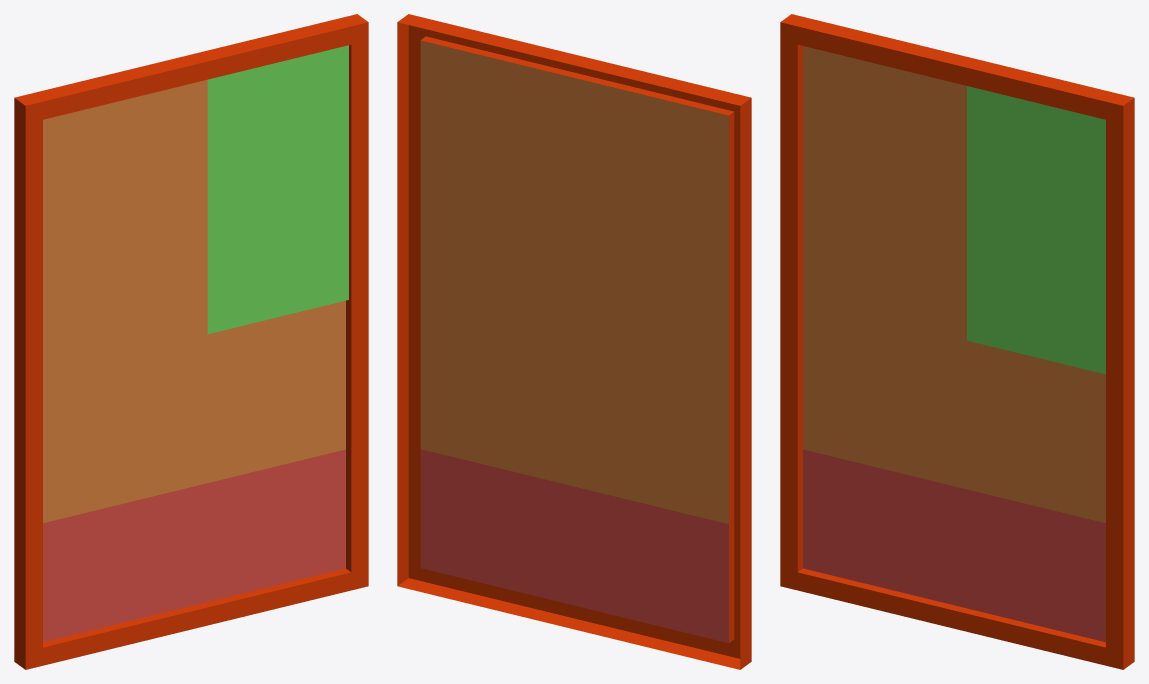
File: Poster_2v.fbx
3 renders of one model, left to right at view 1: azimuth 30°, elevation 25°; view 2: azimuth 150°, elevation 25°; view 3: azimuth 330°, elevation 25°, orthographic.
Visible parts, largest first — view 1: Poster_2v; view 2: Poster_2v; view 3: Poster_2v.
Part boxes in pixels (<box>): Poster_2v: <box>14,14,368,669</box>; Poster_2v: <box>397,14,751,669</box>; Poster_2v: <box>780,14,1134,669</box>.
Size of the model in its own units: 0.0343 by 0.6039 by 0.9489.
